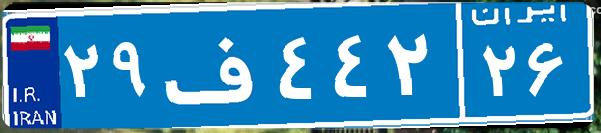2: (385, 28, 445, 110), (57, 26, 110, 107), (475, 38, 525, 113)
4: (273, 28, 330, 110), (330, 28, 385, 110)
6: (525, 38, 570, 115)
9: (110, 28, 158, 105)
ف: (158, 15, 273, 115)
